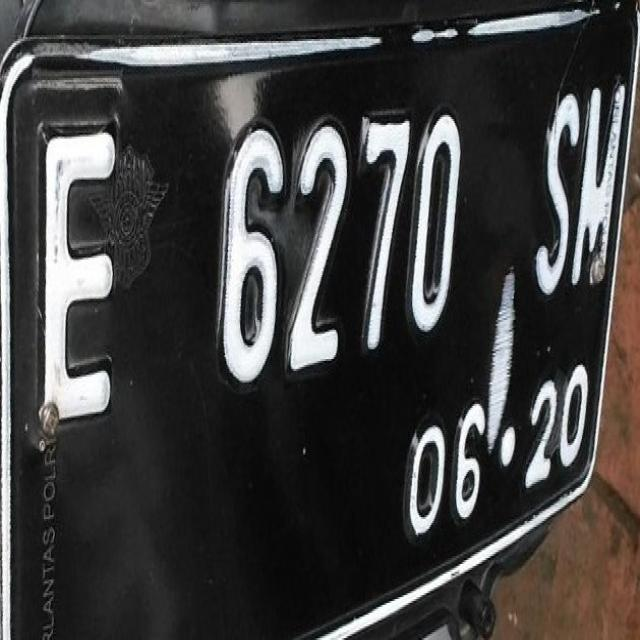plate: (3, 4, 639, 632)
